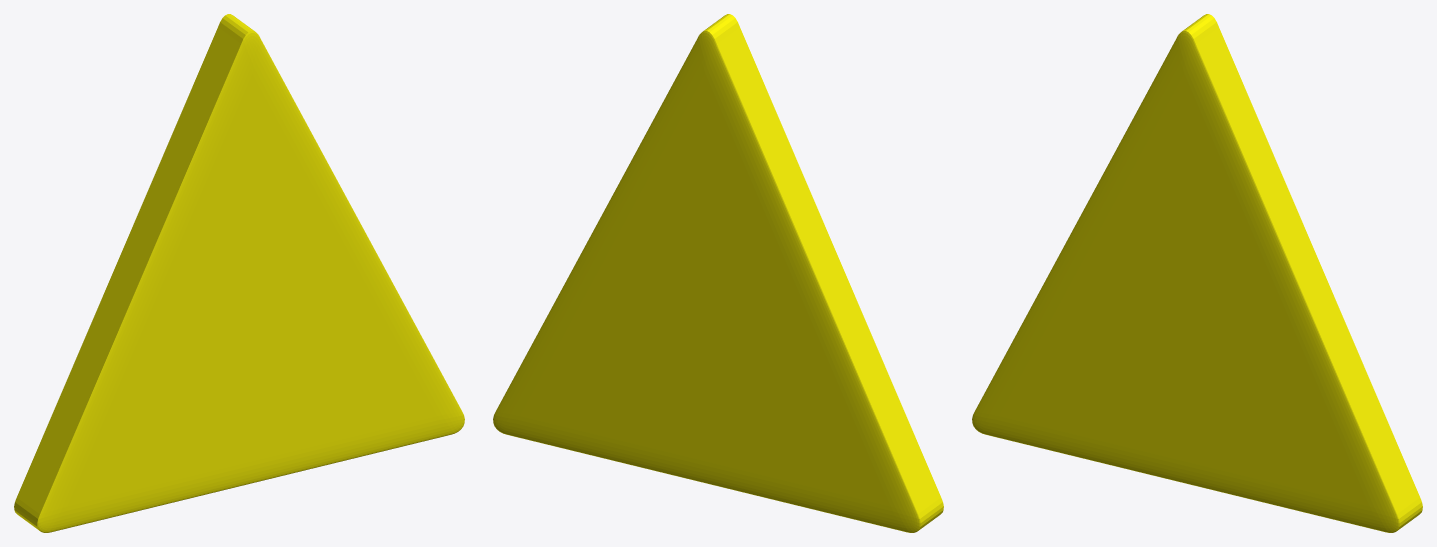
File: triangle.fbx
3 renders of one model, left to right at view 1: azimuth 30°, elevation 25°; view 2: azimuth 150°, elevation 25°; view 3: azimuth 330°, elevation 25°, orthographic.
Visible parts, largest first — view 1: Cube; view 2: Cube; view 3: Cube.
Part boxes in pixels (bbox=[...]): Cube: bbox=[14, 14, 464, 532]; Cube: bbox=[493, 14, 943, 532]; Cube: bbox=[972, 14, 1422, 532].
Bounding box in the file's own units: 193 × 196 × 20.23.
